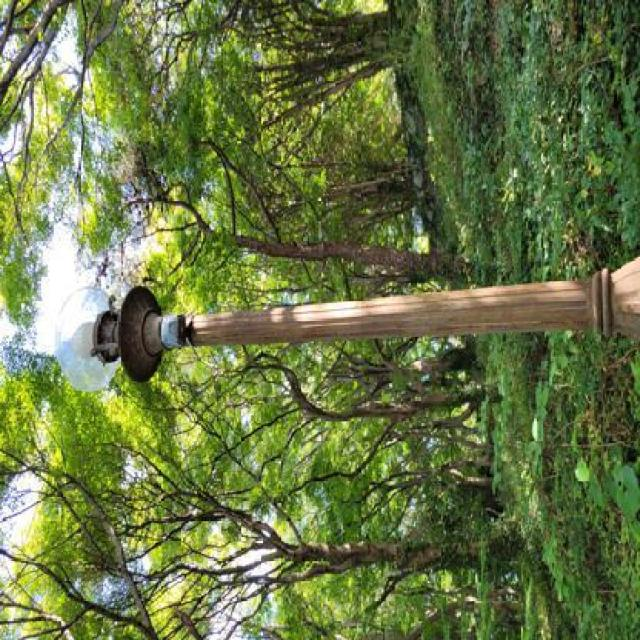pole: (197, 259, 640, 379)
